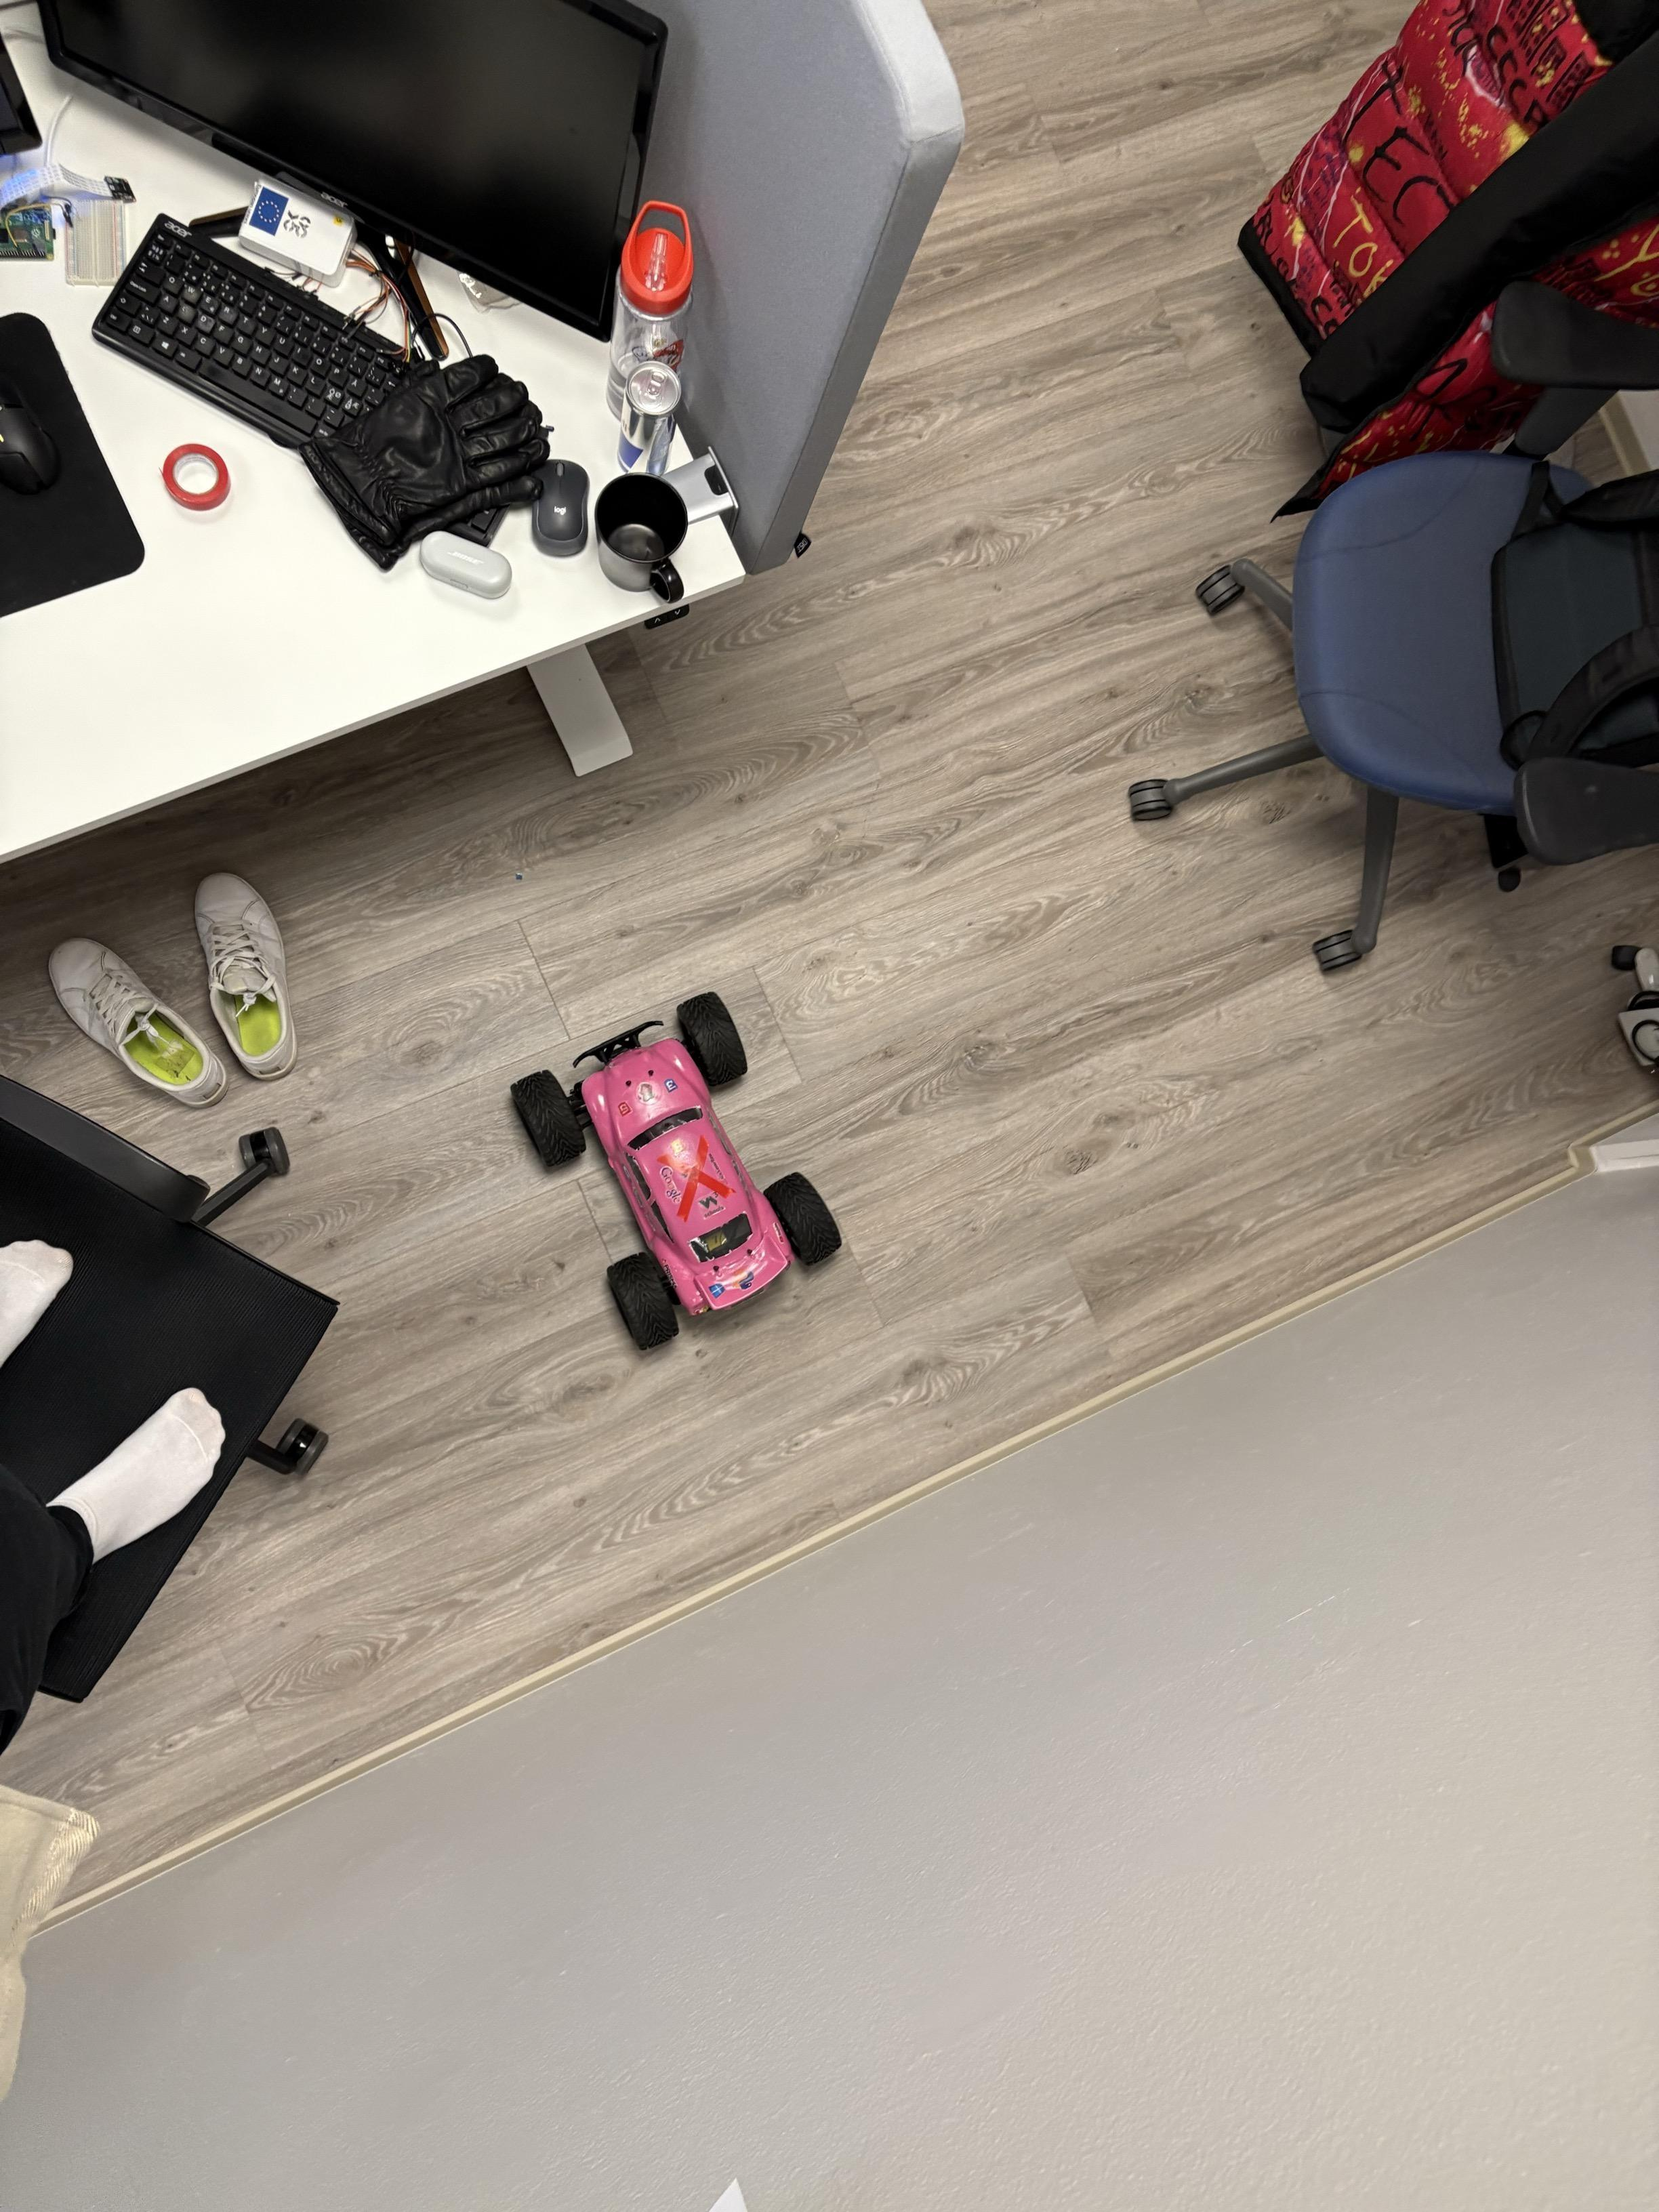Car: (427, 972, 884, 1382)
